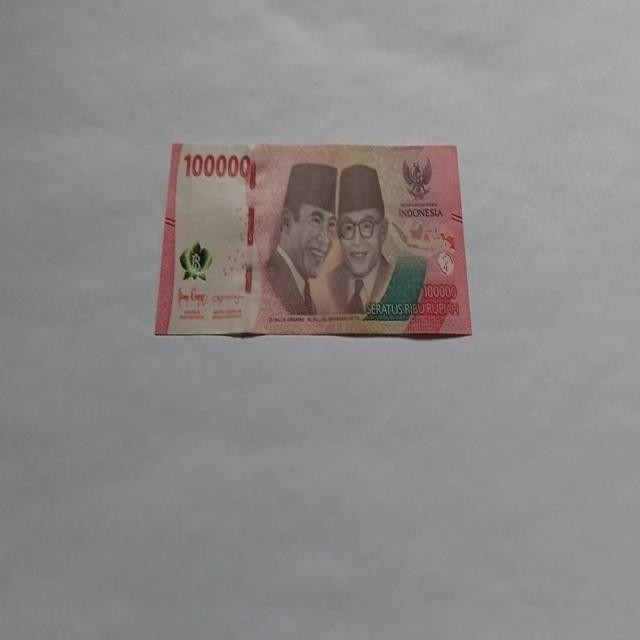seratus ribu rupiah: (154, 140, 472, 338)
